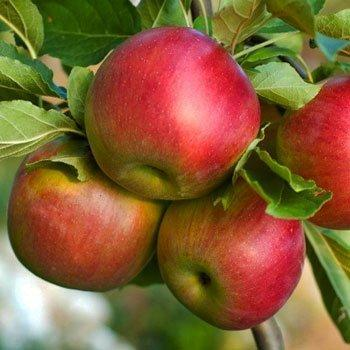apple: (84, 28, 262, 201), (4, 159, 160, 297), (159, 195, 306, 334)
